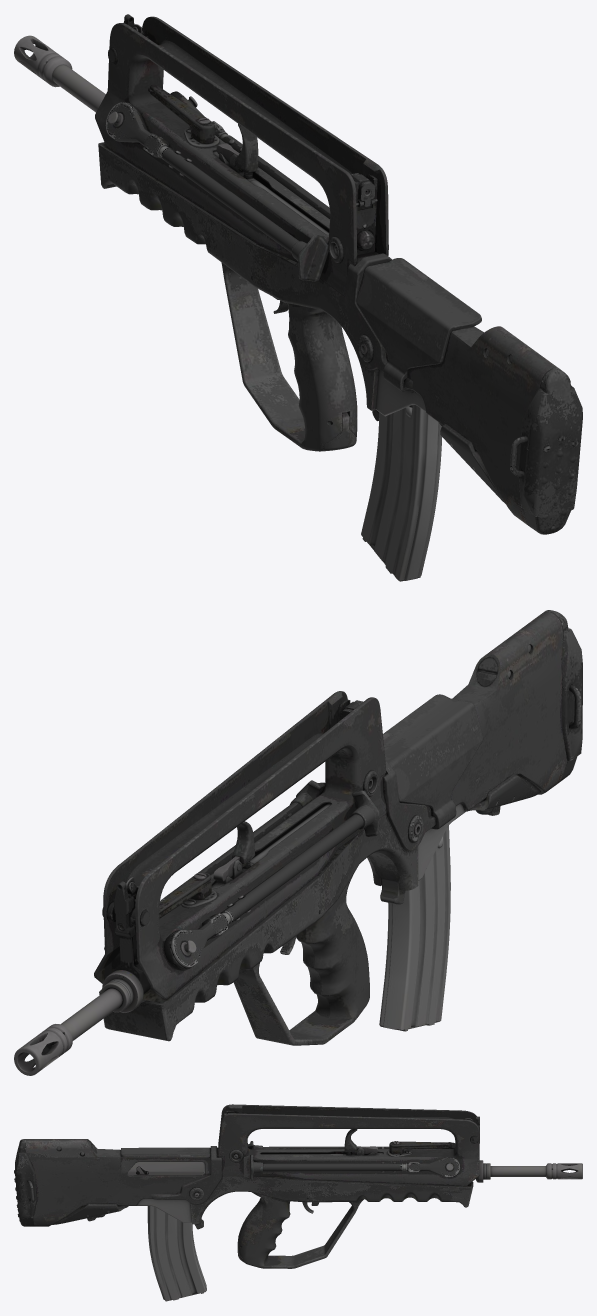
The model's file is famas_r.glb.
3 renders of one model, top to bottom at view 1: azimuth 30°, elevation 25°; view 2: azimuth 150°, elevation 25°; view 3: azimuth 270°, elevation 25°, orthographic. The views are drawn at different scales.
Visible parts, largest first — view 1: v_famas_R; view 2: v_famas_R; view 3: v_famas_R.
Part boxes in pixels (box(x1,y1,x2,y2)): v_famas_R: box(14, 14, 582, 581); v_famas_R: box(14, 610, 582, 1075); v_famas_R: box(14, 1104, 582, 1301).
Bounding box in the file's own units: 0.0824 × 0.3287 × 0.8757.
Materials: 1 (1 with a texture image).
